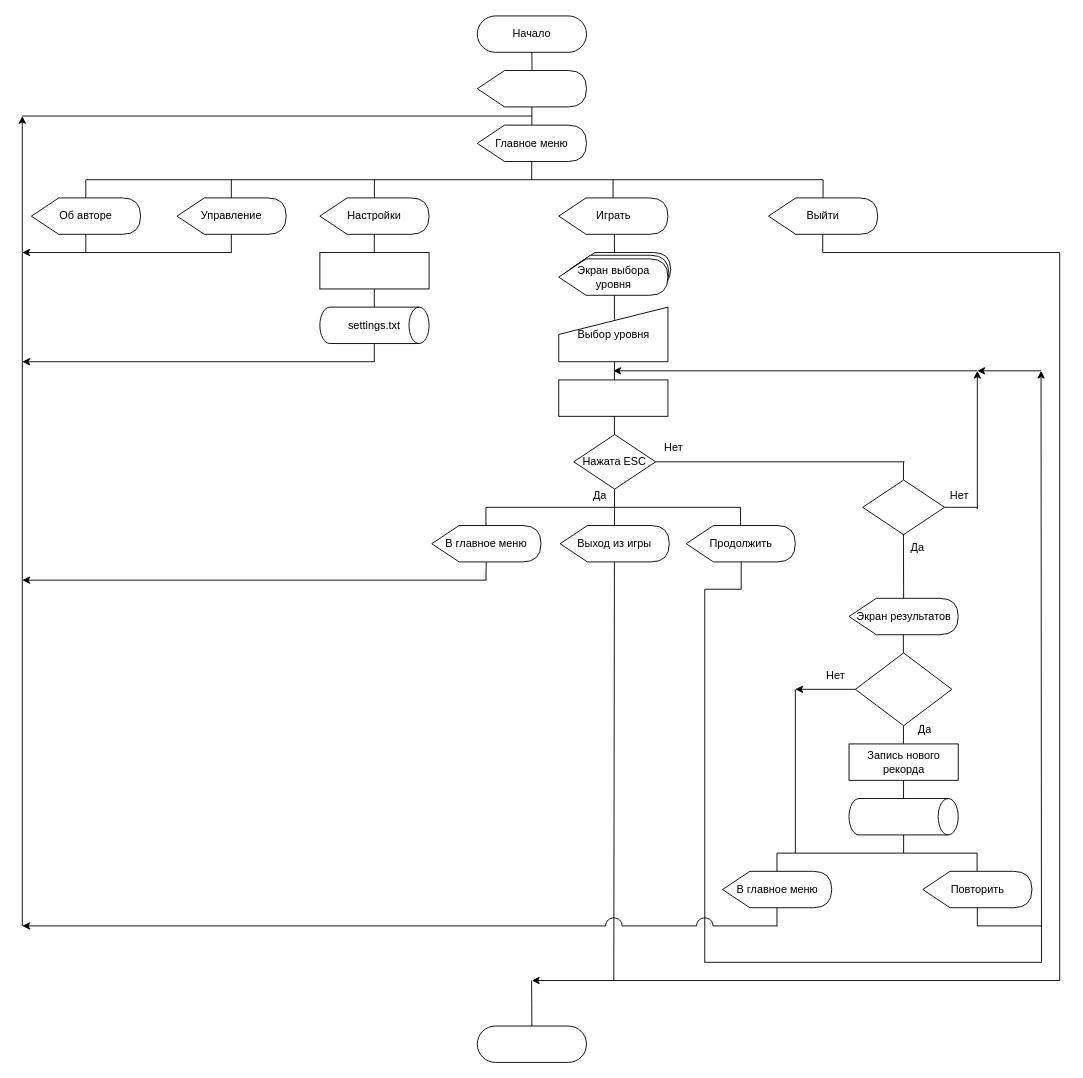
The diagram is 1083 pixels wide and 1078 high, and some of its shapes have lost their labels. The shapes that lost their labels are listed below. From the top down, each one's box as (x1, y1, x2, y2) in pixels, then its label:
(476, 70, 586, 107): Заставка
(319, 252, 429, 289): Сохранение настроек
(558, 379, 668, 416): Прохождение уровня
(862, 479, 945, 535): Уровень завершен
(854, 652, 952, 726): Счёт больше рекорда
(848, 798, 958, 835): scores.txt
(476, 1025, 586, 1062): Конец
